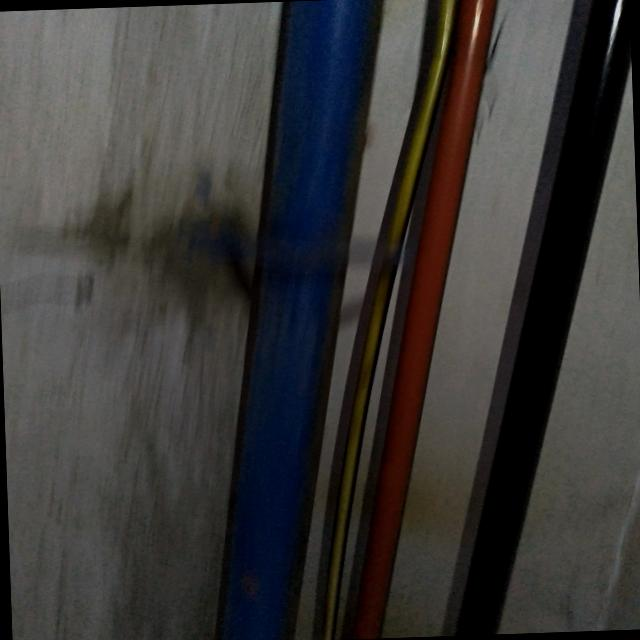gas: (458, 0, 631, 635), (218, 0, 384, 640), (352, 0, 495, 639)
